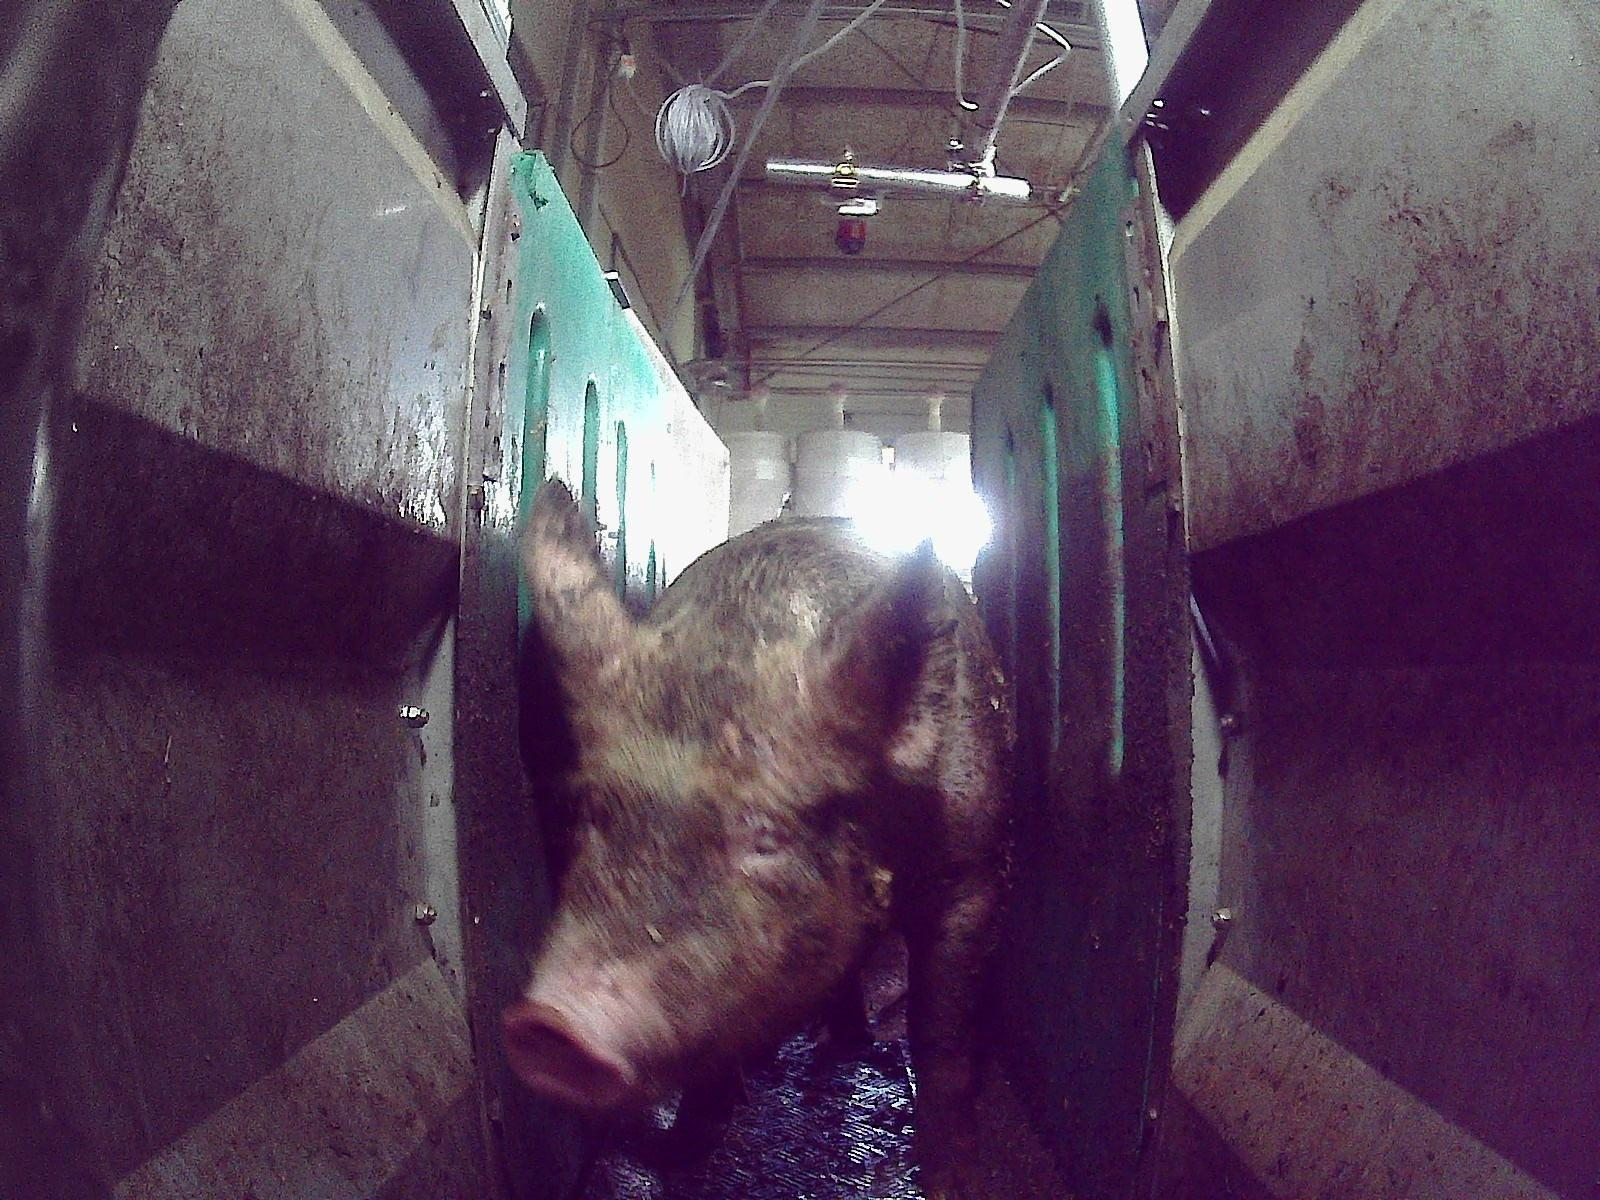Face: (499, 612, 880, 1112)
